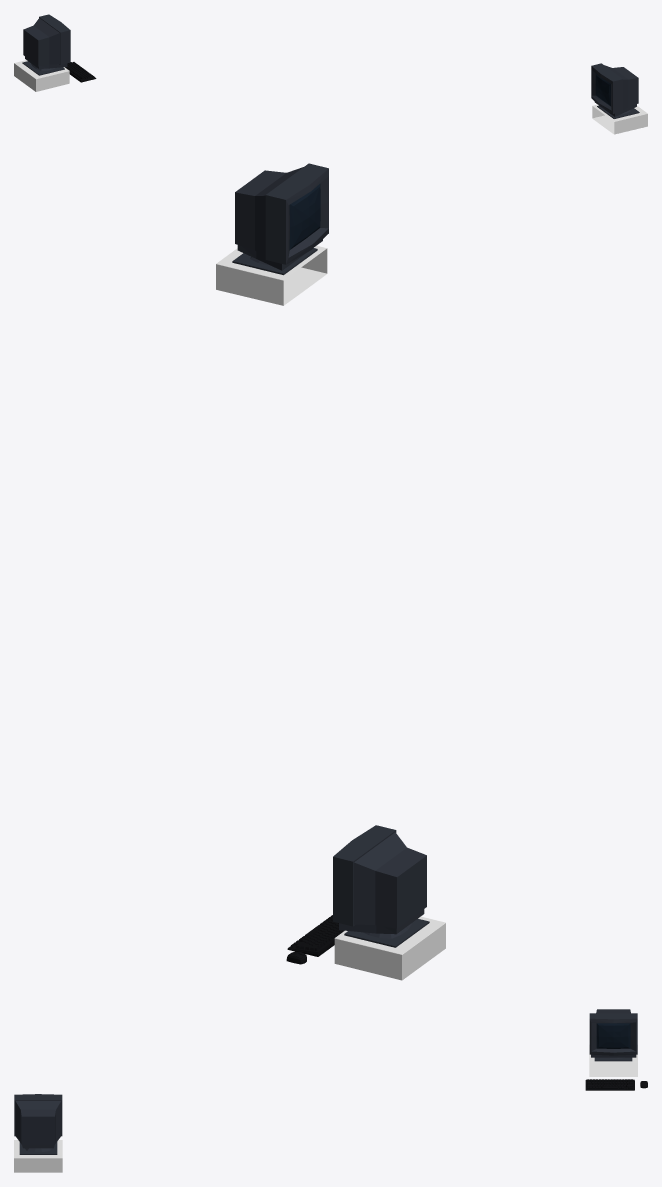
Rendered from retro-pc-white.obj.
The picture shows the model from 3 angles, top to bottom: view 1: azimuth 30°, elevation 25°; view 2: azimuth 150°, elevation 25°; view 3: azimuth 270°, elevation 25°; orthographic projection. The views are drawn at different scales.
Parts seen in each view (by area): view 1: cube.049-0, pc.002-0, cube.049-1, keyboard_002.001; view 2: cube.049-0, pc.002-0, cube.049-1, keyboard_002.001; view 3: cube.049-0, pc.002-0, cube.049-1, keyboard_002.001.
Part boxes in pixels (x1,y1,x2,y2): cube.049-0: [22, 14, 639, 118]; pc.002-0: [14, 60, 647, 134]; cube.049-1: [595, 73, 610, 106]; keyboard_002.001: [65, 62, 96, 82]; cube.049-0: [232, 163, 429, 947]; pc.002-0: [216, 245, 445, 980]; cube.049-1: [289, 183, 320, 249]; keyboard_002.001: [287, 915, 344, 956]; cube.049-0: [14, 1009, 637, 1154]; pc.002-0: [14, 1045, 637, 1172]; cube.049-1: [596, 1023, 630, 1048]; keyboard_002.001: [585, 1079, 634, 1090].
Size of the model in its own units: 0.8901 by 0.2964 by 1.25.
